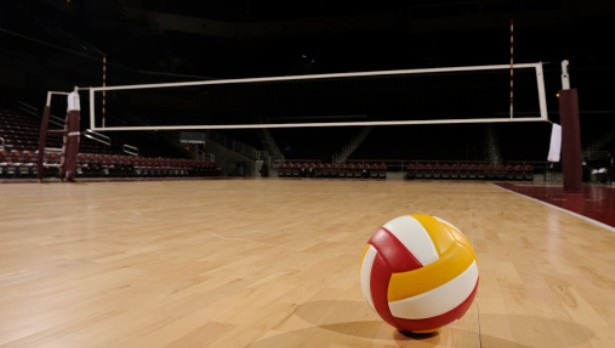volleyball: (361, 213, 482, 333)
